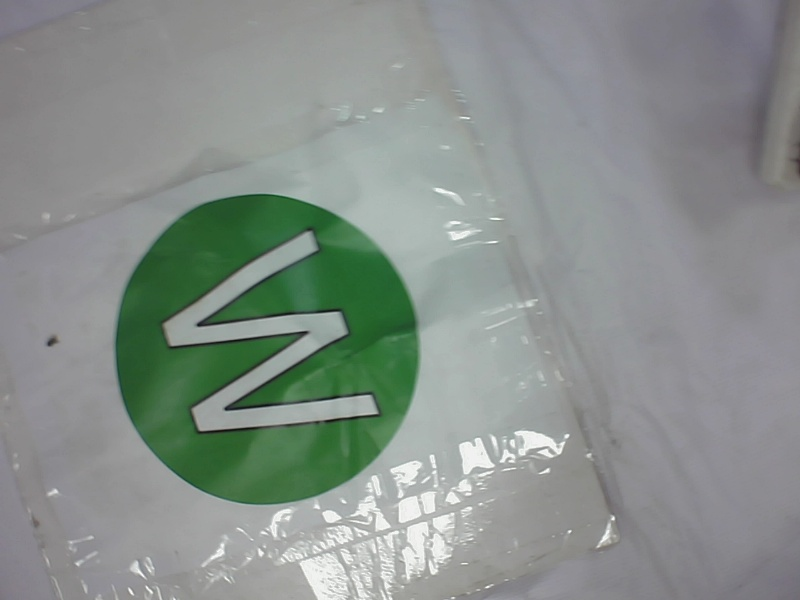areaB: (100, 186, 435, 506)
